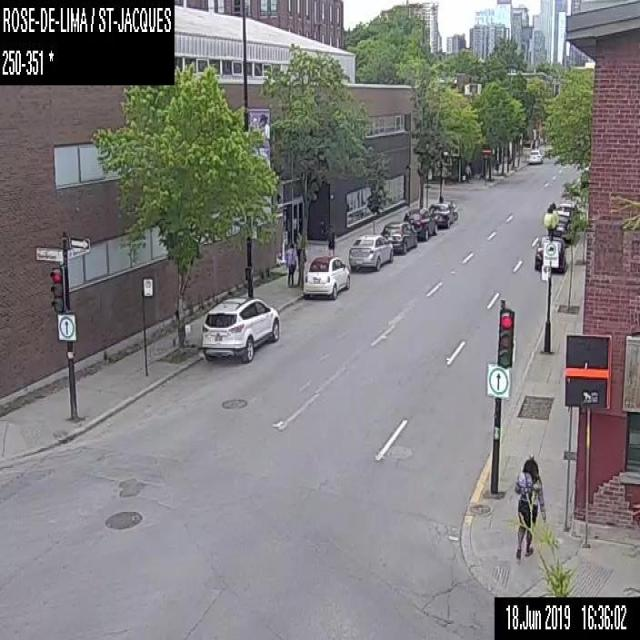pedestrian: (514, 456, 546, 561), (284, 243, 296, 285), (326, 221, 334, 255)
vehicle: (200, 295, 279, 361), (303, 254, 350, 297), (348, 232, 394, 268), (402, 207, 439, 240), (381, 219, 416, 253), (536, 233, 565, 270), (546, 208, 572, 244), (428, 201, 457, 228), (557, 200, 580, 228), (526, 146, 541, 162)
